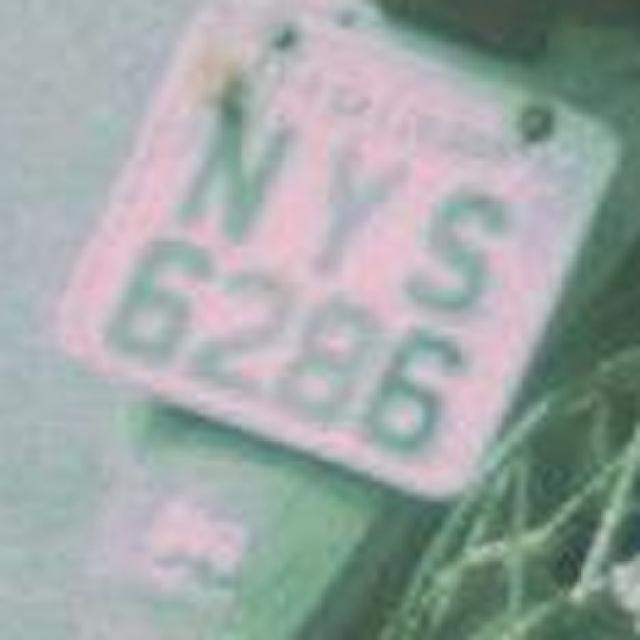2: (172, 248, 308, 404)
3: (328, 296, 500, 464)
6: (340, 300, 485, 475), (80, 216, 228, 376)
8: (252, 272, 400, 436)
N: (151, 60, 304, 245)
S: (388, 168, 520, 312)
